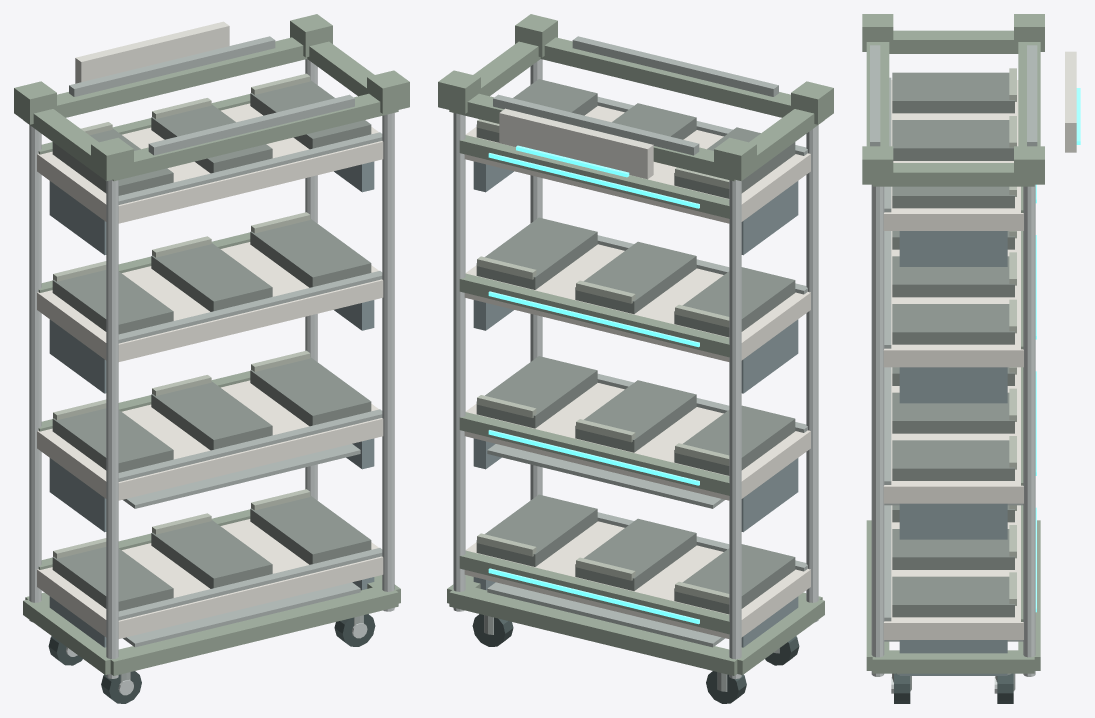
Rendered from s7-e0e1-rs03-nursery-mobile.glb.
The picture shows the model from 3 angles, left to right: view 1: azimuth 30°, elevation 25°; view 2: azimuth 150°, elevation 25°; view 3: azimuth 270°, elevation 25°; orthographic projection.
Parts seen in each view (by area): view 1: tray-load-deck-028, tray-load-deck-016, tray-load-deck-022, tray-load-deck-034, rack-long-rail-009, chrome-vertical-post-002, chrome-vertical-post-006, chrome-vertical-post-000, rack-long-rail-012, empty-nursery-tray-060, empty-nursery-tray-064, empty-nursery-tray-070 (+39 smaller); view 2: tray-load-deck-028, tray-load-deck-016, tray-load-deck-022, rack-long-rail-008, chrome-vertical-post-000, chrome-vertical-post-004, chrome-vertical-post-002, rack-identity-panel-082, rack-long-rail-013, tray-load-deck-034, empty-nursery-tray-060, empty-nursery-tray-072 (+53 smaller); view 3: chrome-vertical-post-006, chrome-vertical-post-004, tray-load-deck-028, empty-nursery-tray-060, empty-nursery-tray-074, tray-load-deck-022, empty-nursery-tray-066, empty-nursery-tray-072, empty-nursery-tray-076, tray-load-deck-016, tray-load-deck-034, shelf-support-027 (+29 smaller).
Boxes of the visible parts, box(x1,y1,x2,y2) form: tray-load-deck-028: box(37, 242, 383, 361); tray-load-deck-016: box(37, 519, 383, 638); tray-load-deck-022: box(37, 380, 383, 500); tray-load-deck-034: box(37, 103, 383, 223); rack-long-rail-009: box(102, 585, 398, 675); chrome-vertical-post-002: box(106, 180, 118, 678); chrome-vertical-post-006: box(382, 113, 394, 611); chrome-vertical-post-000: box(29, 125, 41, 622); rack-long-rail-012: box(57, 37, 307, 117); empty-nursery-tray-060: box(250, 495, 371, 564); empty-nursery-tray-064: box(151, 381, 272, 450); empty-nursery-tray-070: box(151, 243, 272, 311); tray-load-deck-028: box(464, 244, 810, 361); tray-load-deck-016: box(464, 521, 810, 638); tray-load-deck-022: box(464, 383, 810, 500); rack-long-rail-008: box(449, 585, 745, 675); chrome-vertical-post-000: box(729, 180, 741, 678); chrome-vertical-post-004: box(453, 113, 465, 611); chrome-vertical-post-002: box(806, 125, 818, 622); rack-identity-panel-082: box(499, 108, 653, 179); rack-long-rail-013: box(540, 37, 790, 117); tray-load-deck-034: box(464, 106, 810, 223); empty-nursery-tray-060: box(476, 494, 597, 566); empty-nursery-tray-072: box(476, 217, 597, 289); chrome-vertical-post-006: box(871, 184, 884, 676); chrome-vertical-post-004: box(1023, 184, 1035, 676); tray-load-deck-028: box(883, 231, 1023, 367); empty-nursery-tray-060: box(892, 576, 1014, 617); empty-nursery-tray-074: box(892, 72, 1014, 113); tray-load-deck-022: box(883, 367, 1023, 503); empty-nursery-tray-066: box(892, 440, 1014, 480); empty-nursery-tray-072: box(892, 304, 1014, 344); empty-nursery-tray-076: box(892, 120, 1013, 160); tray-load-deck-016: box(883, 505, 1023, 639); tray-load-deck-034: box(883, 80, 1023, 230); shelf-support-027: box(899, 503, 1007, 539).
Size of the model in its own units: 1 by 1.79 by 0.633.
